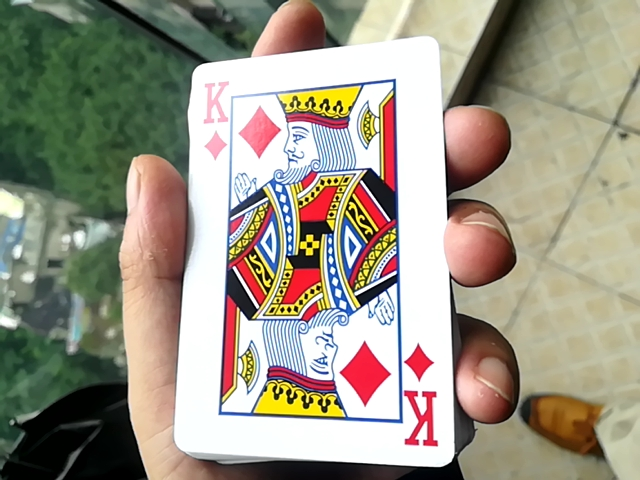fk k: (160, 25, 464, 460)
